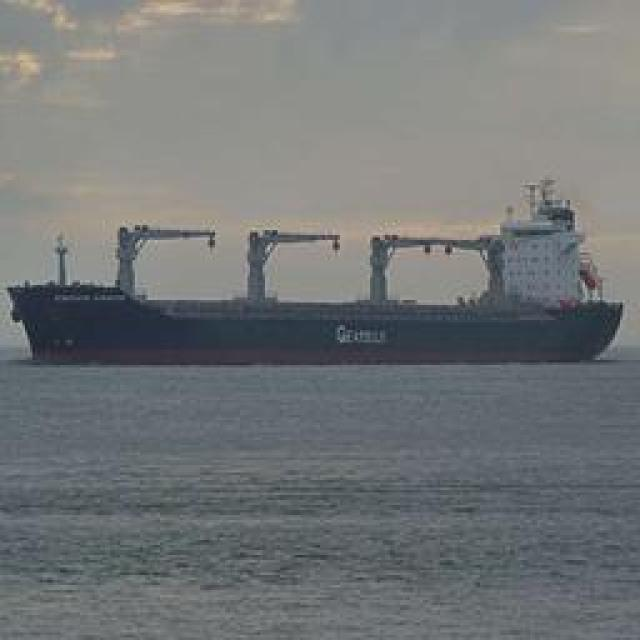CIV_Ship: (6, 214, 634, 368)
